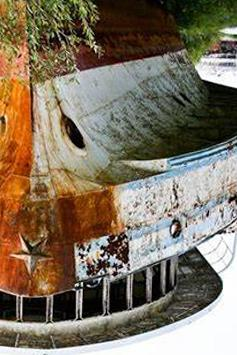rust: (37, 167, 140, 287), (1, 2, 35, 293), (71, 2, 189, 61), (216, 159, 237, 232)
